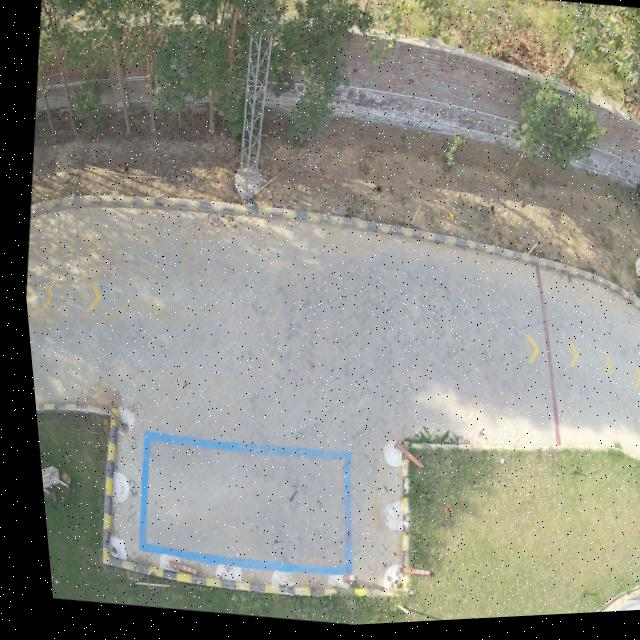No Car: (21, 0, 640, 628)
